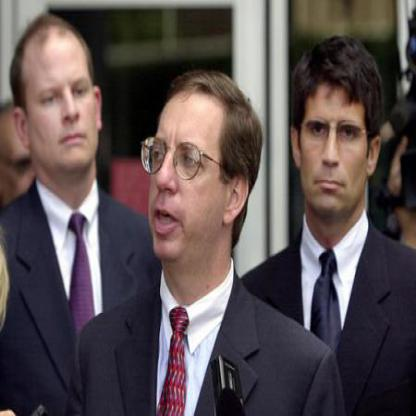face: (140, 69, 235, 269), (299, 47, 374, 221), (24, 20, 101, 185)
